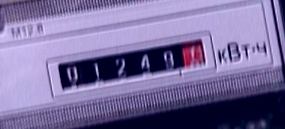0: (65, 62, 81, 84)
1: (90, 59, 102, 80)
2: (114, 56, 129, 77)
4: (139, 52, 152, 72)
7: (186, 41, 200, 61)
9: (161, 49, 177, 71)
screen: (38, 32, 217, 99)
